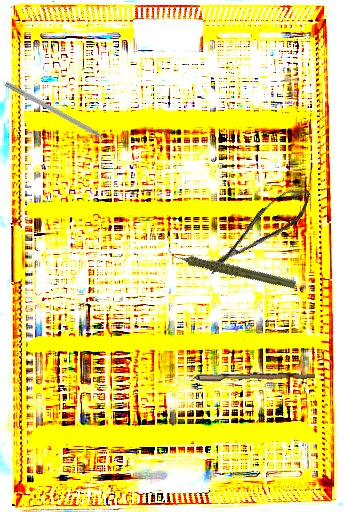Chopper: (1, 81, 121, 155)
Handpiece: (165, 222, 299, 314)
Micro Scissor: (198, 180, 319, 281)
Surgical Spoon: (155, 370, 316, 384)
